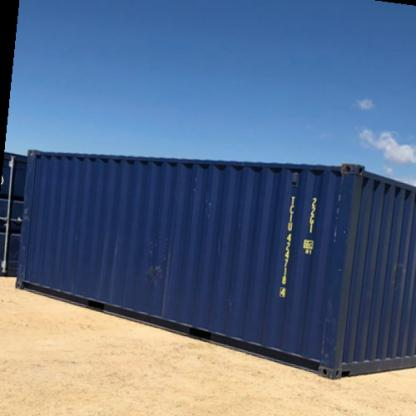Damage: (327, 172, 364, 360), (122, 227, 177, 297), (184, 174, 232, 224)
